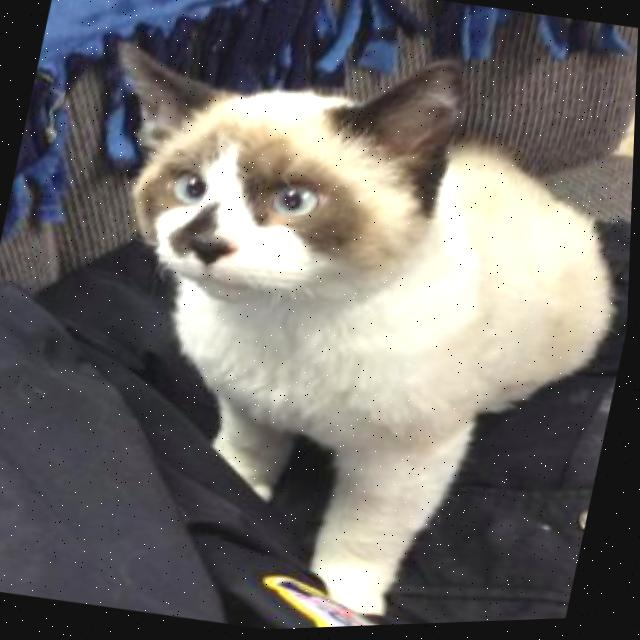Ragdoll: (2, 0, 640, 639)
